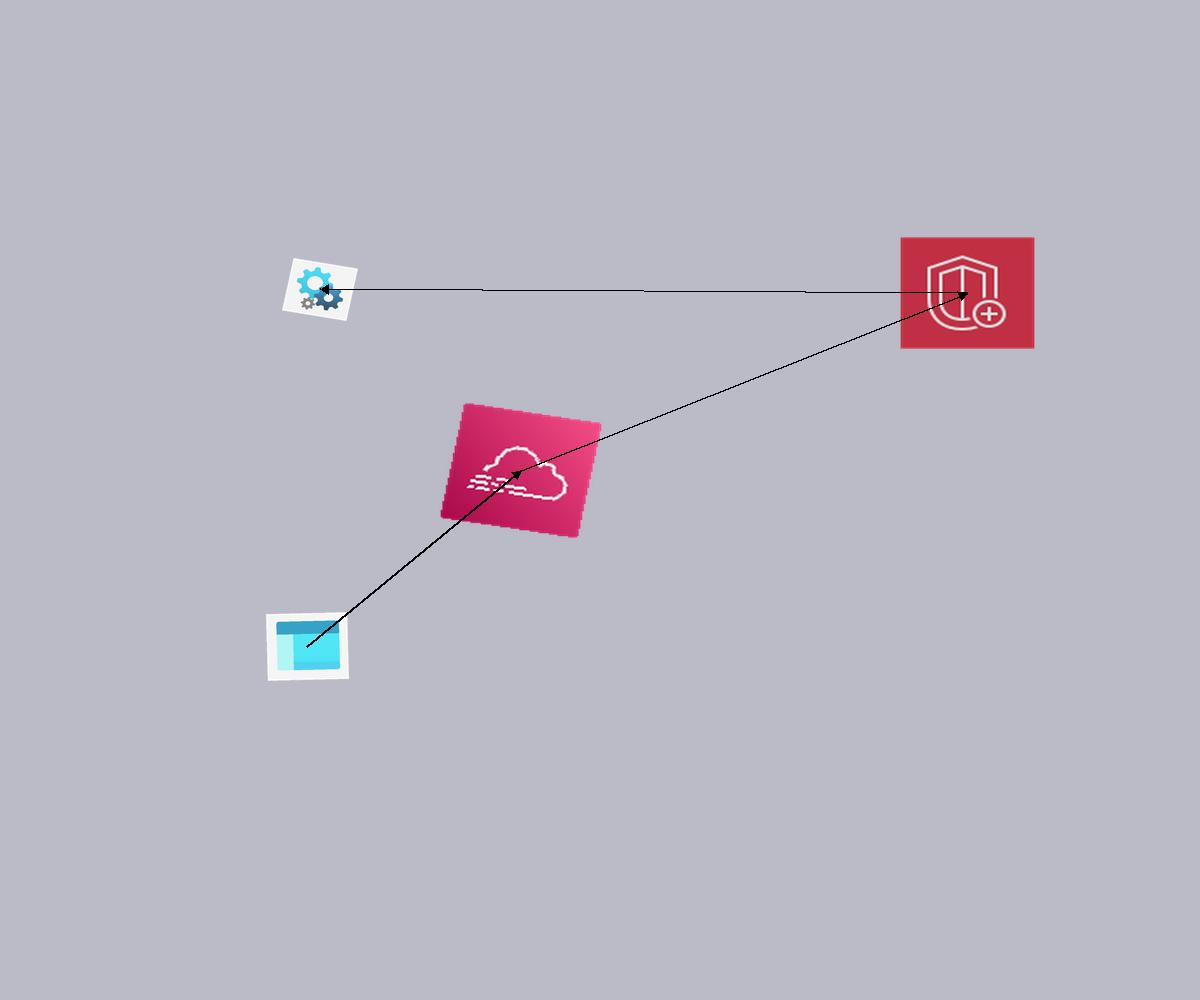AWS-CloudTrail: (439, 402, 603, 539)
AWS-Shield: (899, 236, 1036, 350)
Azure_api: (282, 258, 358, 321)
Azure_management-portal: (266, 612, 349, 681)
